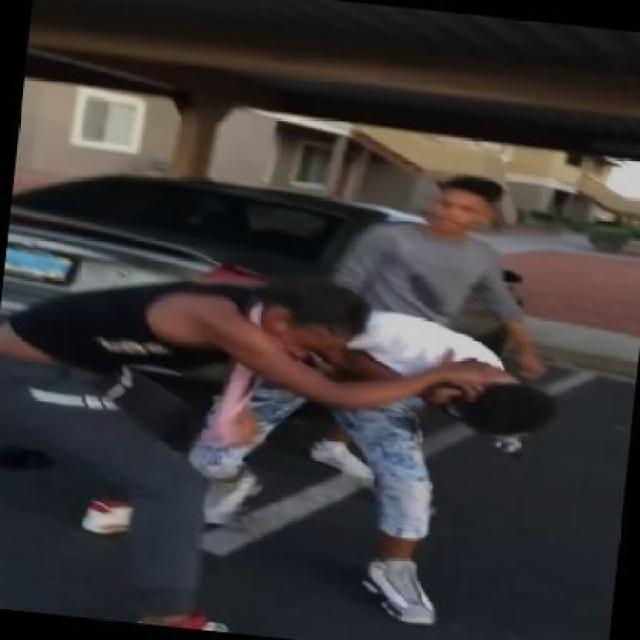fight: (0, 176, 585, 638)
